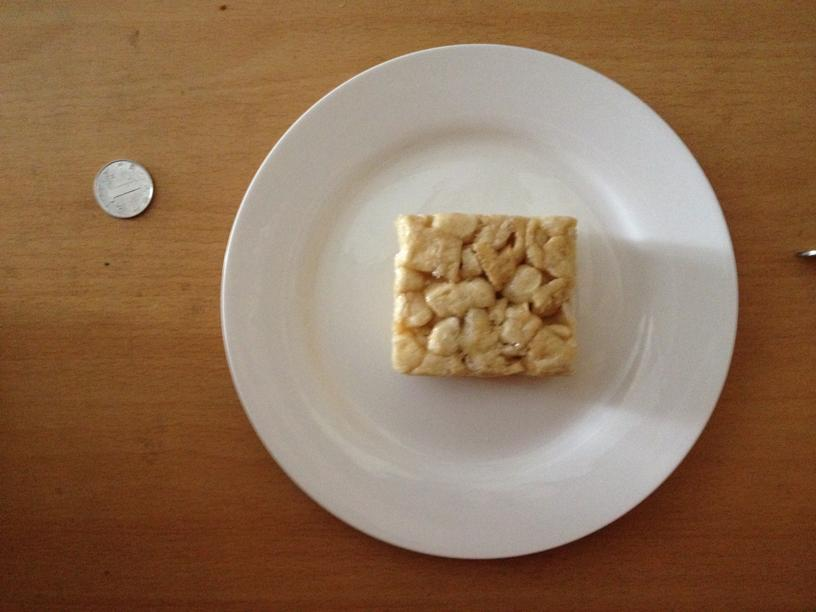coin: (94, 160, 153, 218)
sachima: (386, 208, 584, 380)
